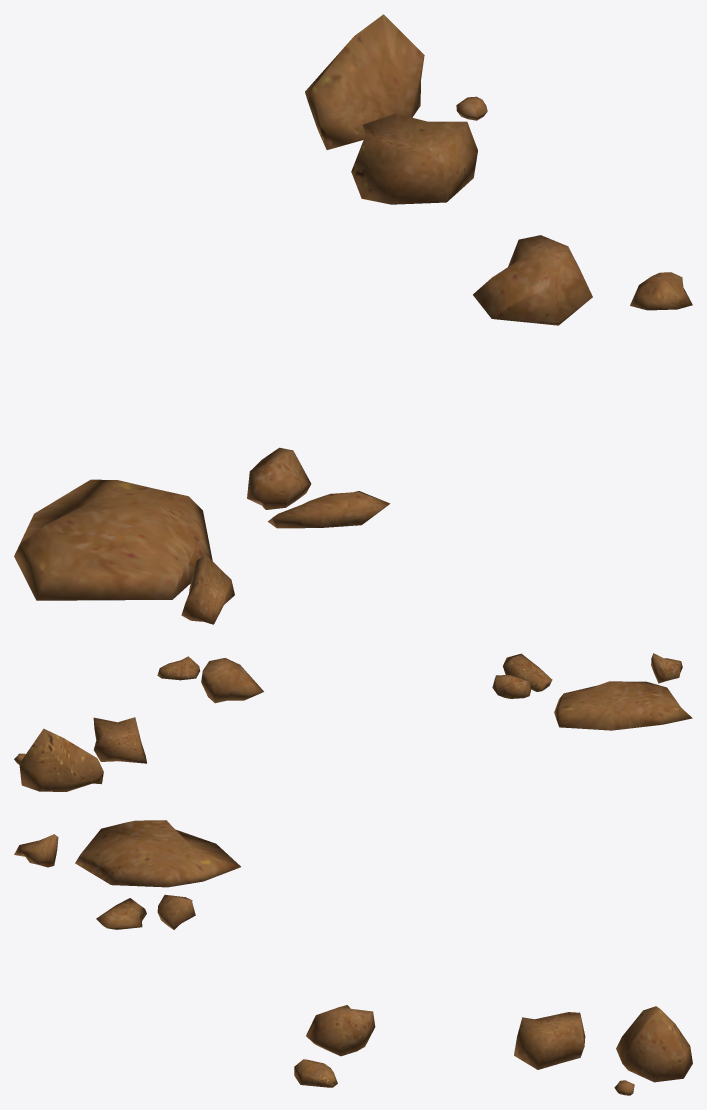
The model's file is tunnelRocksA.fbx.
3 renders of one model, top to bottom at view 1: azimuth 30°, elevation 25°; view 2: azimuth 150°, elevation 25°; view 3: azimuth 270°, elevation 25°, orthographic. The views are drawn at different scales.
Parts seen in each view (by area): view 1: tunnelRocksA; view 2: tunnelRocksA; view 3: tunnelRocksA.
Part boxes in pixels (<box>): tunnelRocksA: <box>14,14,692,624</box>; tunnelRocksA: <box>14,653,692,791</box>; tunnelRocksA: <box>14,820,692,1095</box>.
Size of the model in its own units: 3.43 by 0.3868 by 3.68.
1 material, 1 textured.
